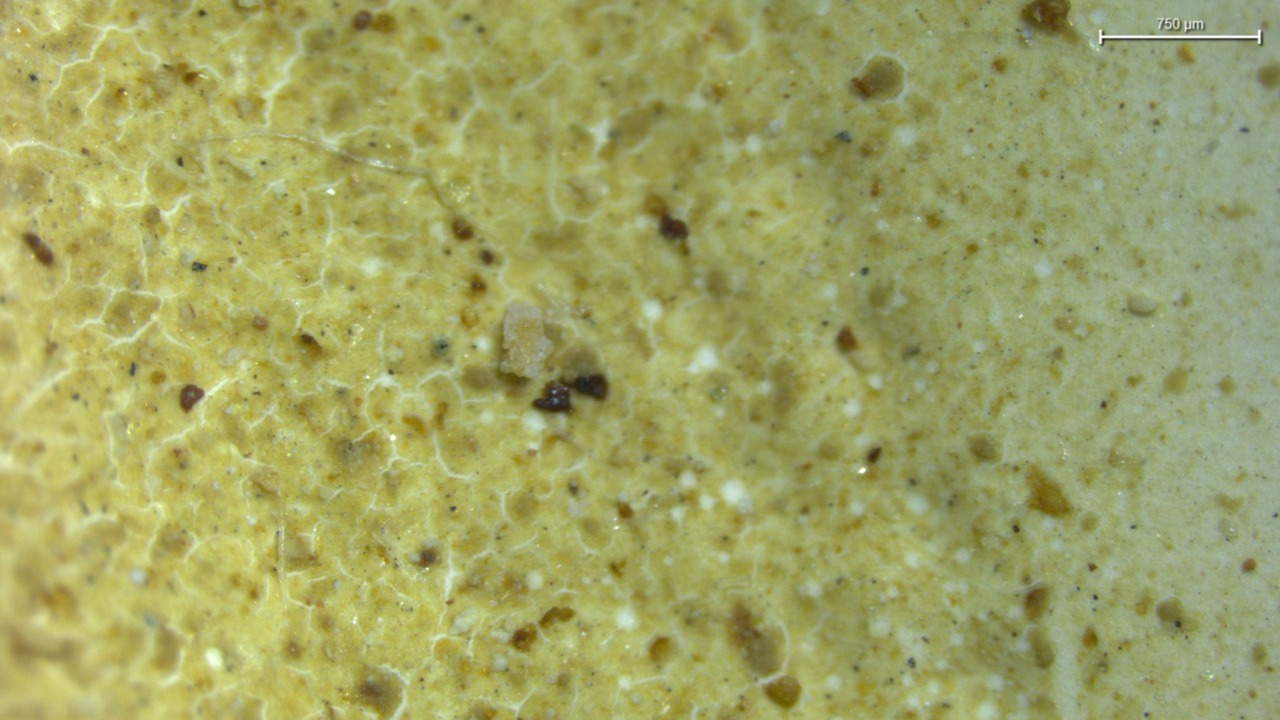microplastic_fragment: (501, 302, 552, 378)
